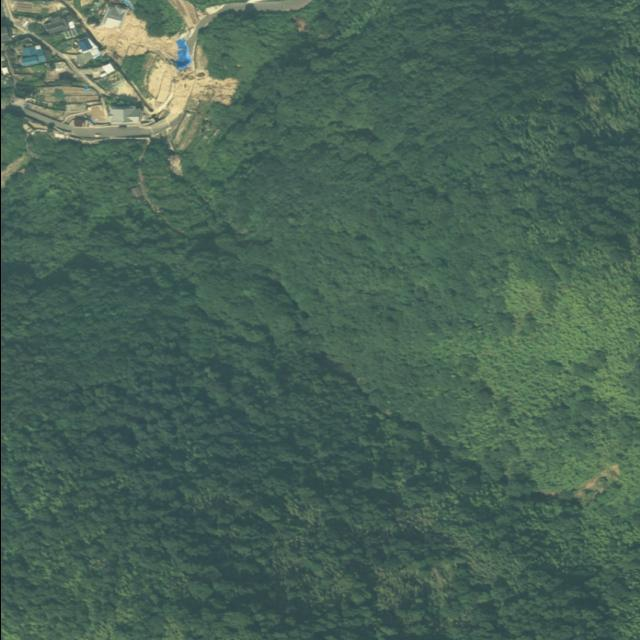landslide: (88, 11, 177, 59), (190, 68, 237, 105), (147, 59, 177, 106)
